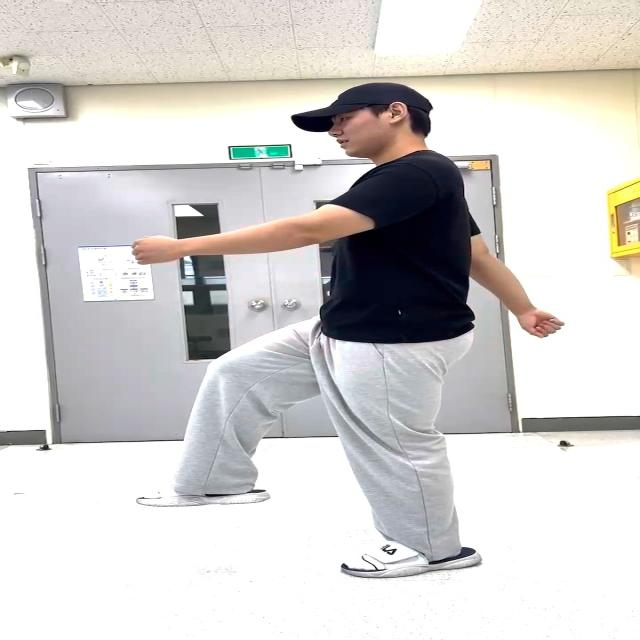leg: (165, 336, 321, 504)
